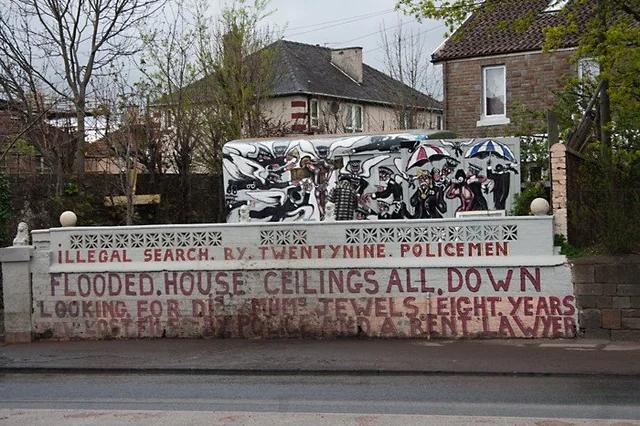graffiti: (42, 241, 579, 343), (225, 144, 506, 215)
